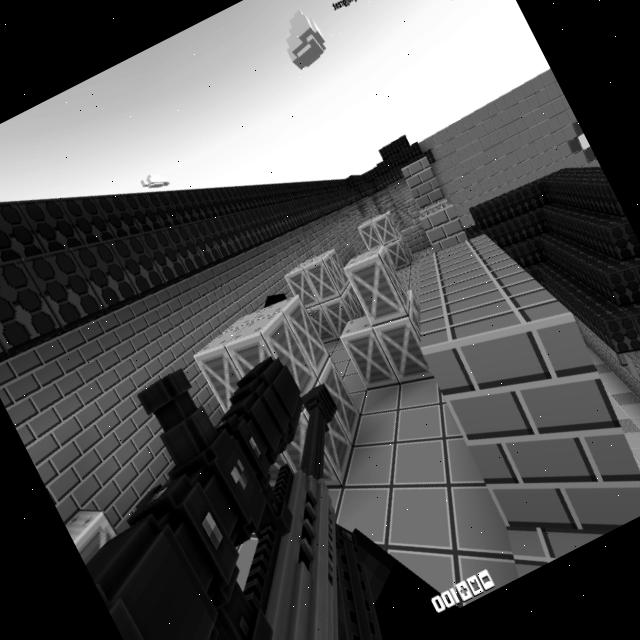Head: (260, 287, 286, 309)
